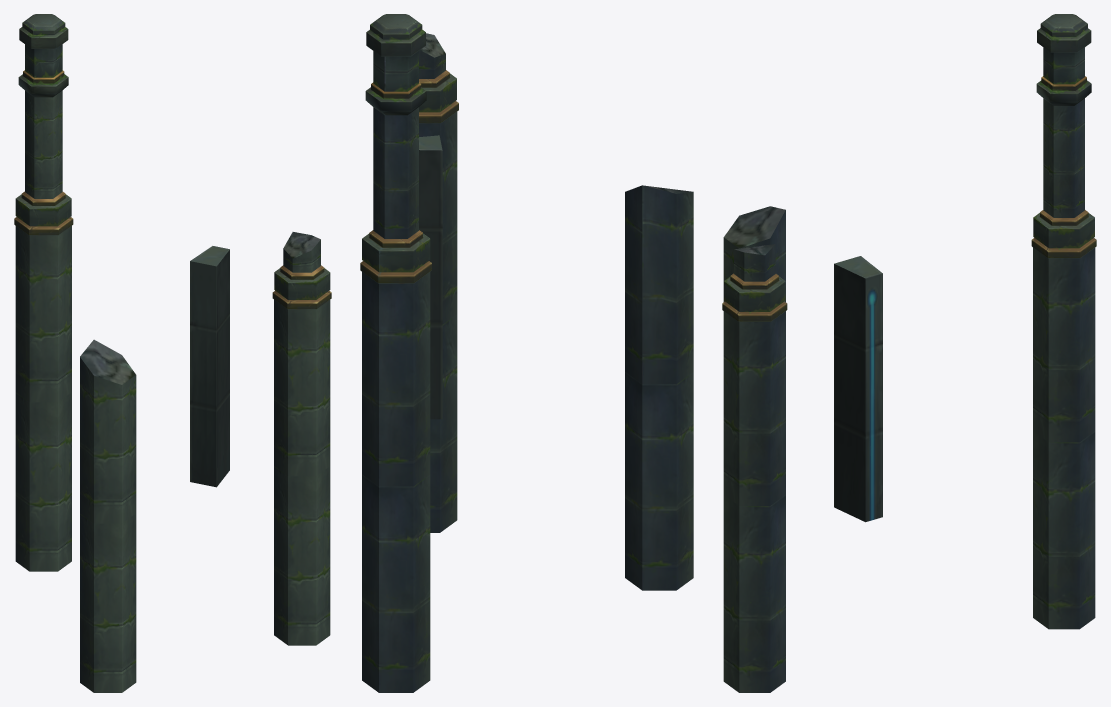
File: FB1_yuanzhu01.FBX
3 views of the same model, side by side, from view 1: azimuth 30°, elevation 25°; view 2: azimuth 150°, elevation 25°; view 3: azimuth 270°, elevation 25° (orthographic). The views are drawn at different scales.
Parts seen in each view (by area): view 1: FB1_yuanzhu01_001, FB1_yuanzhu01_002, FB1_yuanzhu01_003, FB1_waiqiang01_001; view 2: FB1_yuanzhu01_001, FB1_yuanzhu01_003, FB1_yuanzhu01_002, FB1_waiqiang01_001; view 3: FB1_yuanzhu01_001, FB1_yuanzhu01_002, FB1_waiqiang01_001, FB1_yuanzhu01_003.
Part boxes in pixels (x1,y1,x2,y2): FB1_yuanzhu01_001: [14, 14, 73, 571]; FB1_yuanzhu01_002: [272, 232, 331, 645]; FB1_yuanzhu01_003: [80, 339, 136, 692]; FB1_waiqiang01_001: [190, 246, 229, 487]; FB1_yuanzhu01_001: [360, 14, 431, 692]; FB1_yuanzhu01_003: [625, 185, 693, 590]; FB1_yuanzhu01_002: [419, 33, 458, 532]; FB1_waiqiang01_001: [419, 135, 442, 419]; FB1_yuanzhu01_001: [1031, 14, 1096, 629]; FB1_yuanzhu01_002: [722, 244, 787, 692]; FB1_waiqiang01_001: [834, 256, 882, 522]; FB1_yuanzhu01_003: [723, 206, 785, 301].
Bounding box in the file's own units: 2621 × 5712 × 3245.
1 material, 1 textured.
